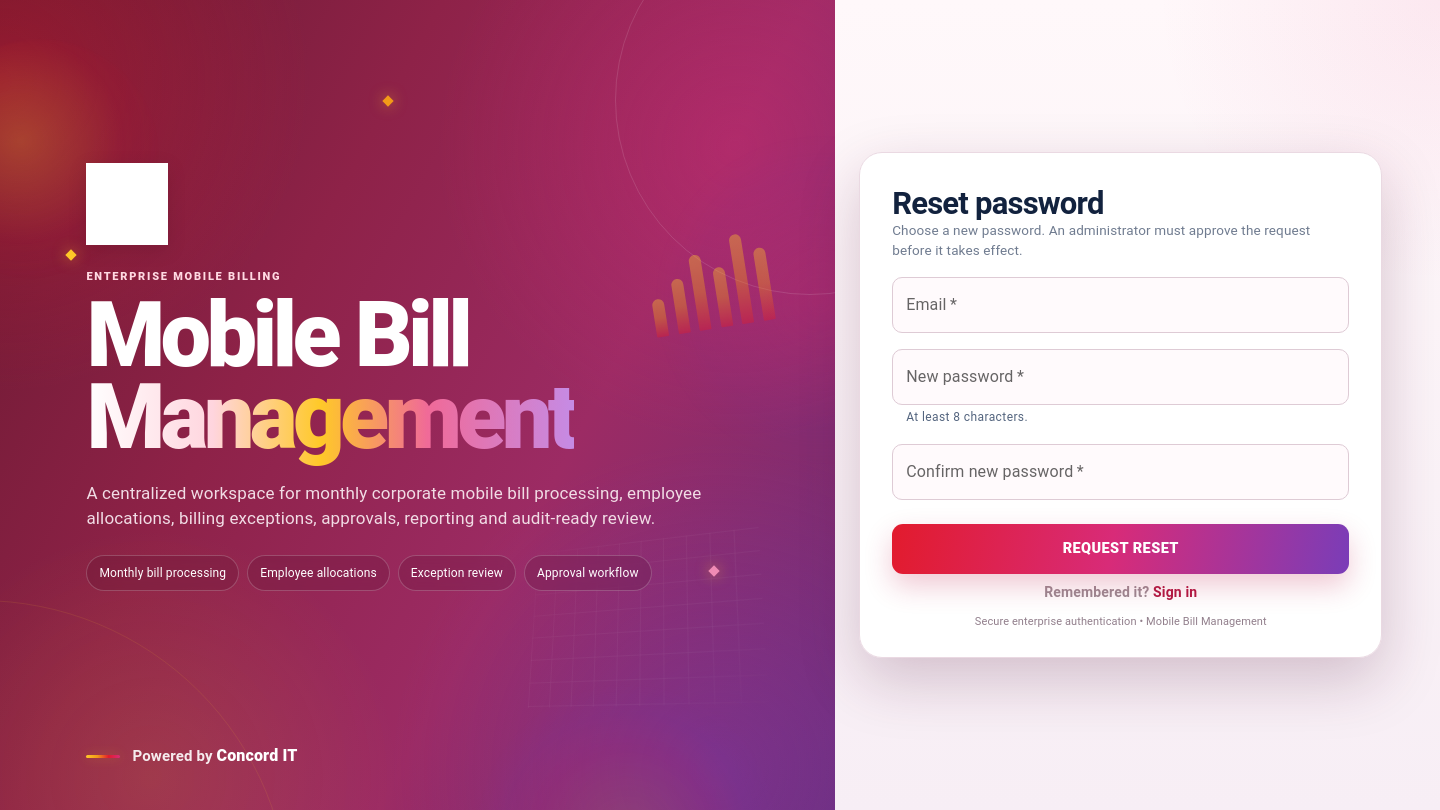
Test: ForgotPasswordPage › sends the reset request and tells the user an administrator must approve it
This screenshot has width=1440, height=810.
Step 1. Type "engineer@example.com" into the field labelled "Email *" → (1121, 305), box [892,277,1349,333]
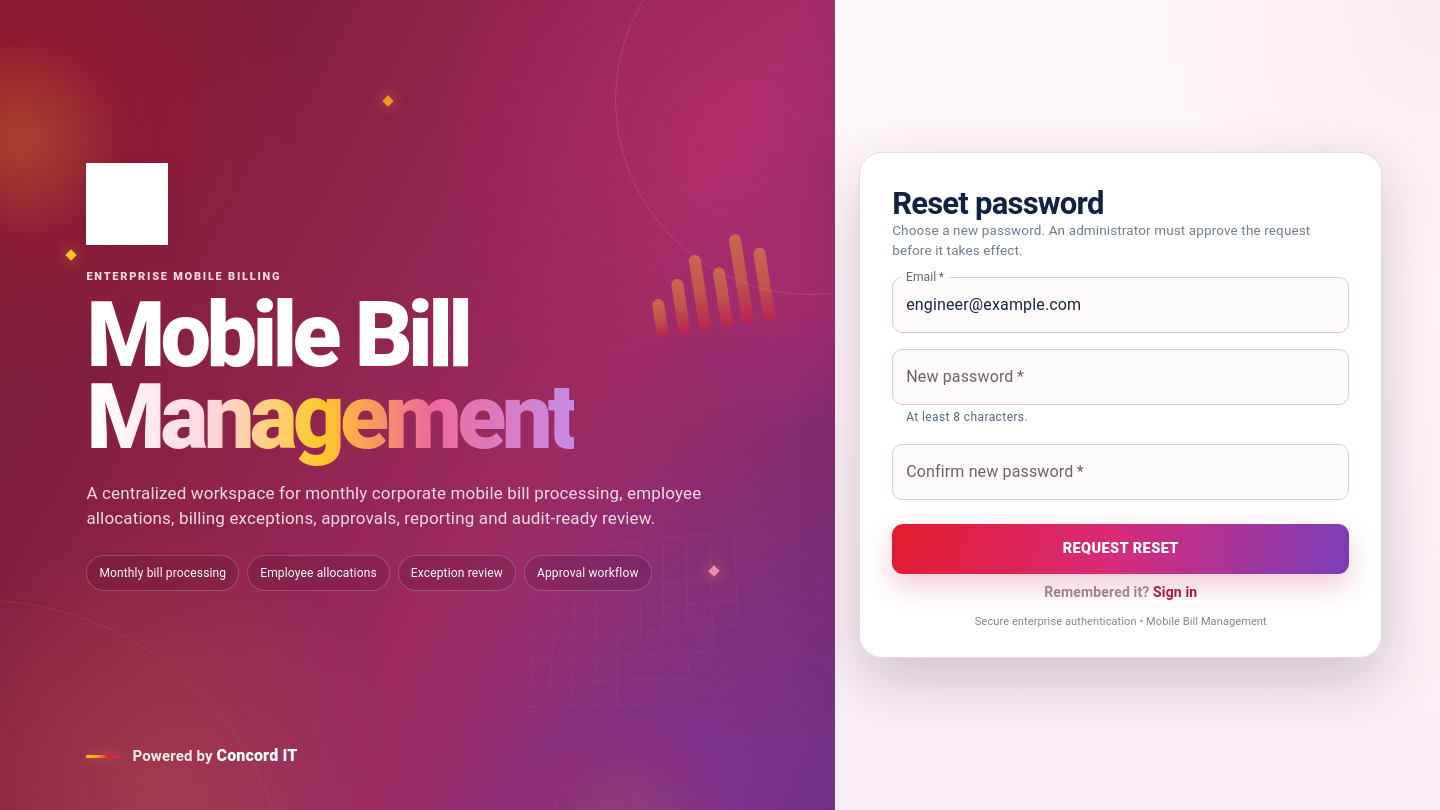
Step 2. Type "new-password-1" into the password field labelled "New password *" → (1121, 377), box [892,349,1349,405]
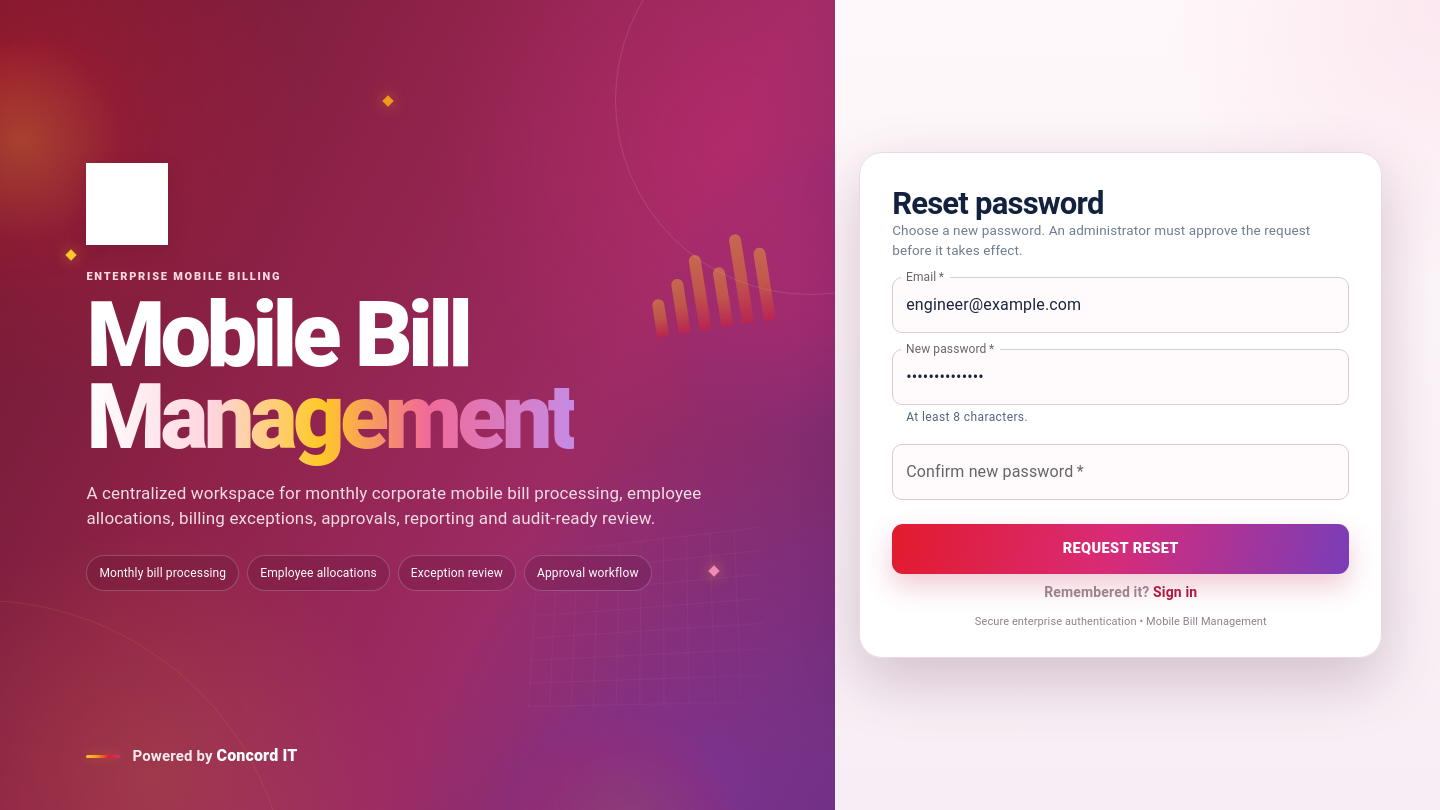
Step 3. Type "new-password-1" into the password field labelled "Confirm new password *" → (1121, 472), box [892,444,1349,500]
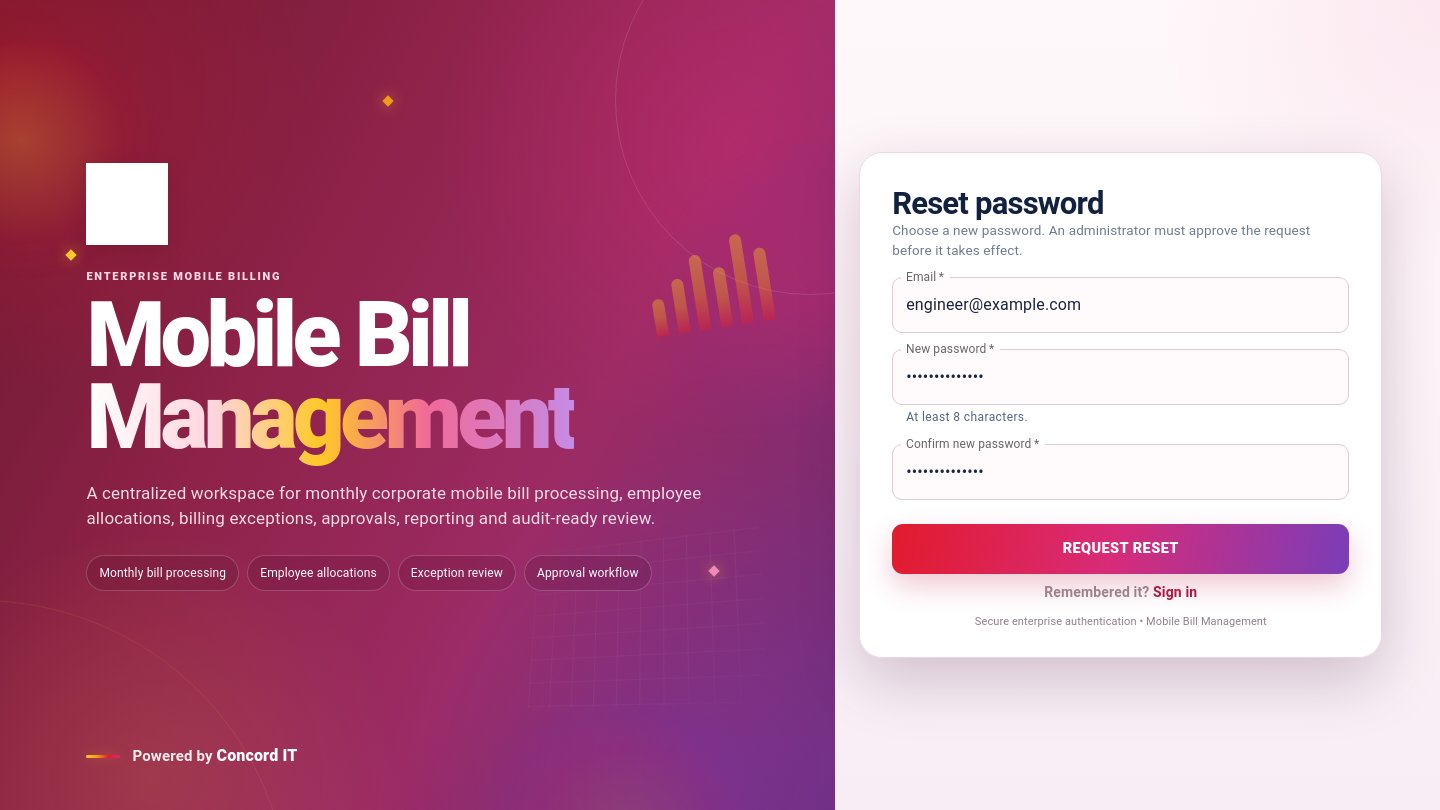
Step 4. Click the button "Request reset" → (1121, 549), box [892,524,1349,574]
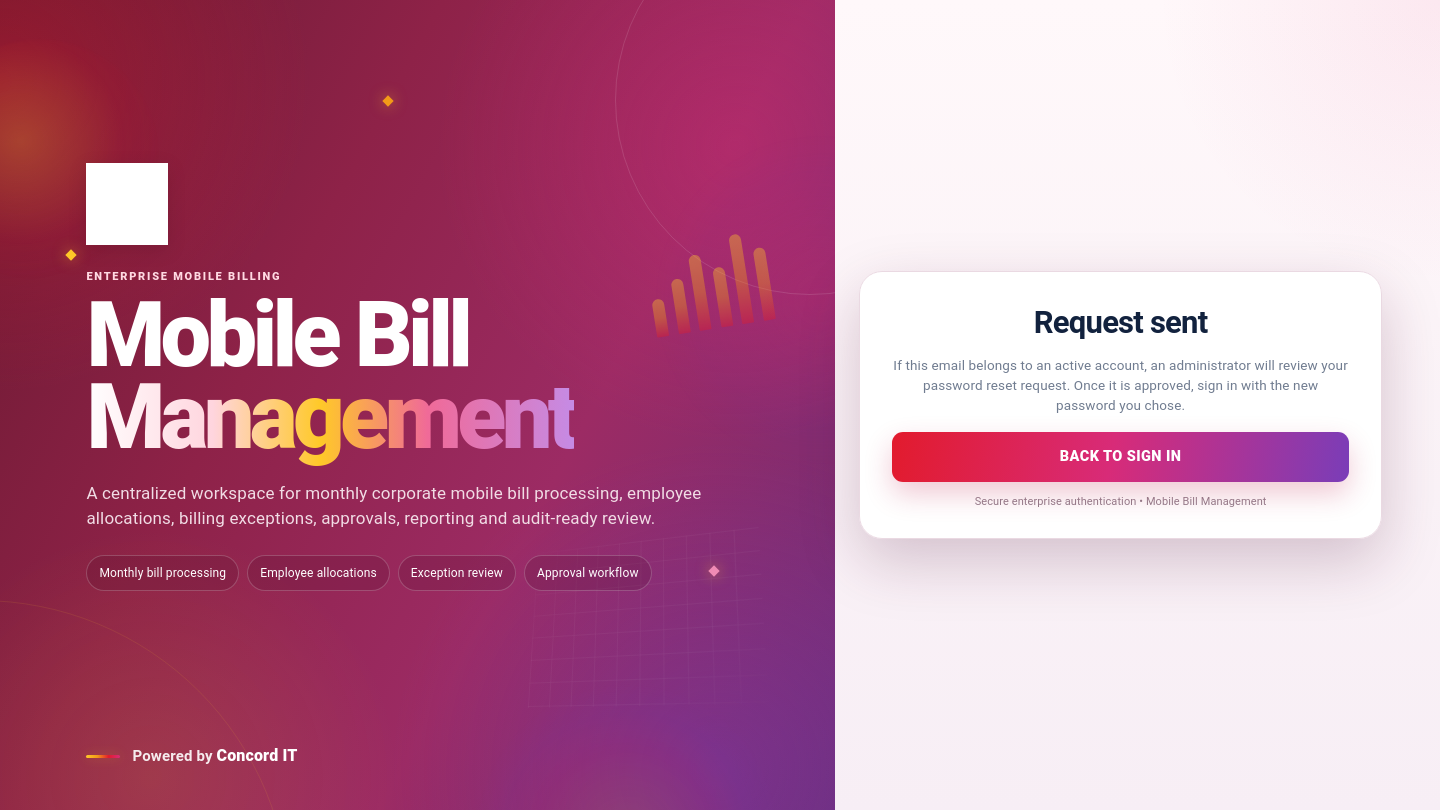
Check: the heading "Request sent" is shown, box [1034,304,1208,341]
